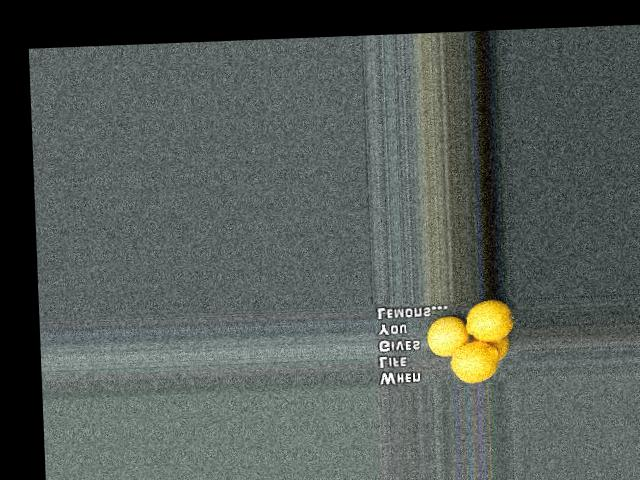lemon: (462, 302, 514, 342)
